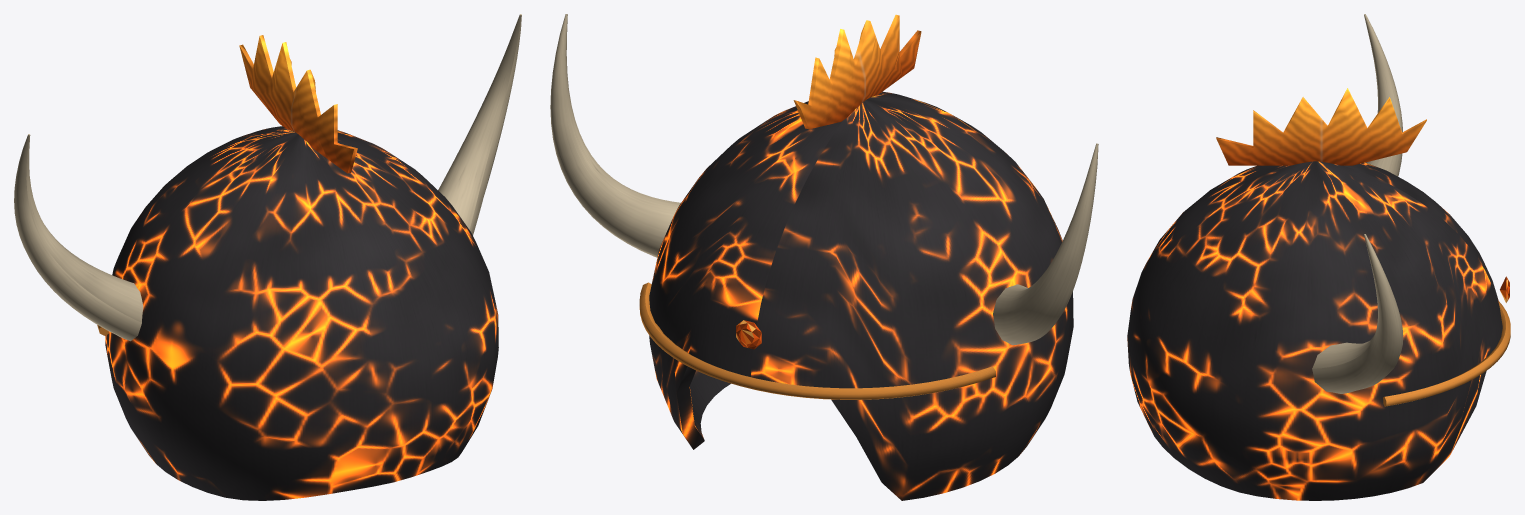
Rendered from EmberHelm.glb.
3 views of the same model, side by side, from view 1: azimuth 30°, elevation 25°; view 2: azimuth 150°, elevation 25°; view 3: azimuth 270°, elevation 25° (orthographic). The views are drawn at different scales.
Visible parts, largest first — view 1: EmberHelm; view 2: EmberHelm; view 3: EmberHelm.
Boxes of the visible parts, <box> form: EmberHelm: <box>14,14,521,500</box>; EmberHelm: <box>550,14,1098,500</box>; EmberHelm: <box>1127,14,1510,500</box>.
Bounding box in the file's own units: 2.13 × 1.57 × 1.55.
1 material, 1 textured.
